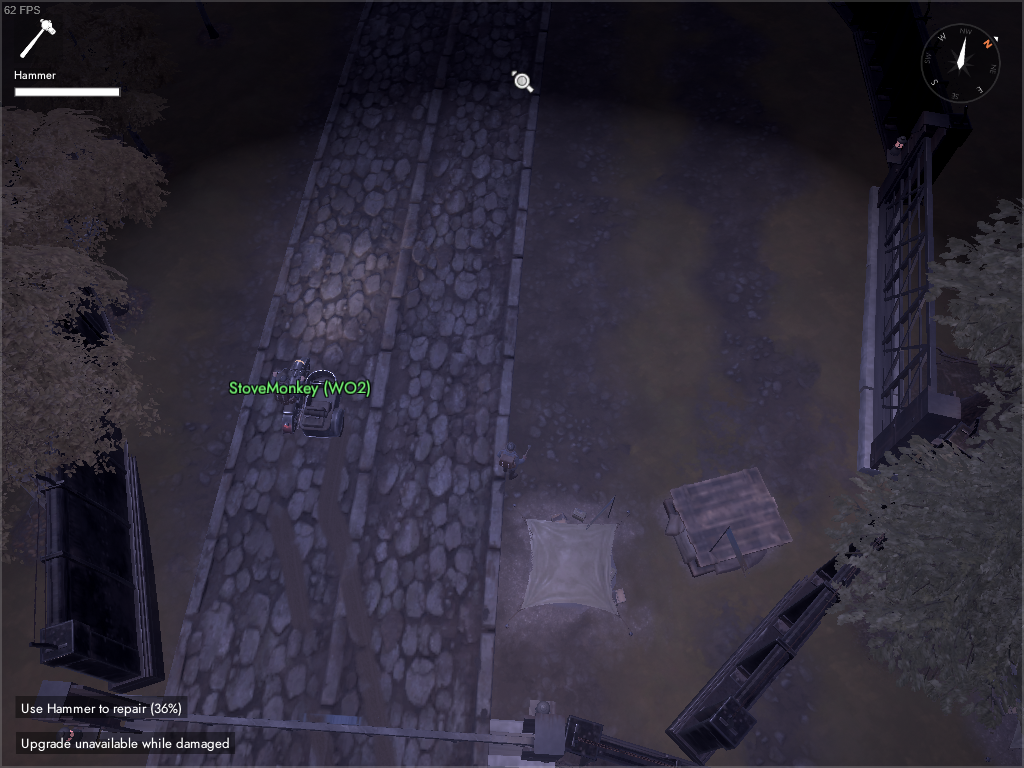fortified_wall: (662, 417, 997, 768), (11, 302, 168, 694), (838, 1, 973, 206), (17, 171, 125, 348), (562, 711, 702, 768)
foxhole: (498, 495, 645, 643)
motorcycle: (264, 353, 350, 441)
pillbox: (662, 459, 798, 590)
player: (492, 439, 534, 481), (268, 365, 309, 407)
raised_gate: (29, 676, 571, 768), (851, 108, 971, 481)
